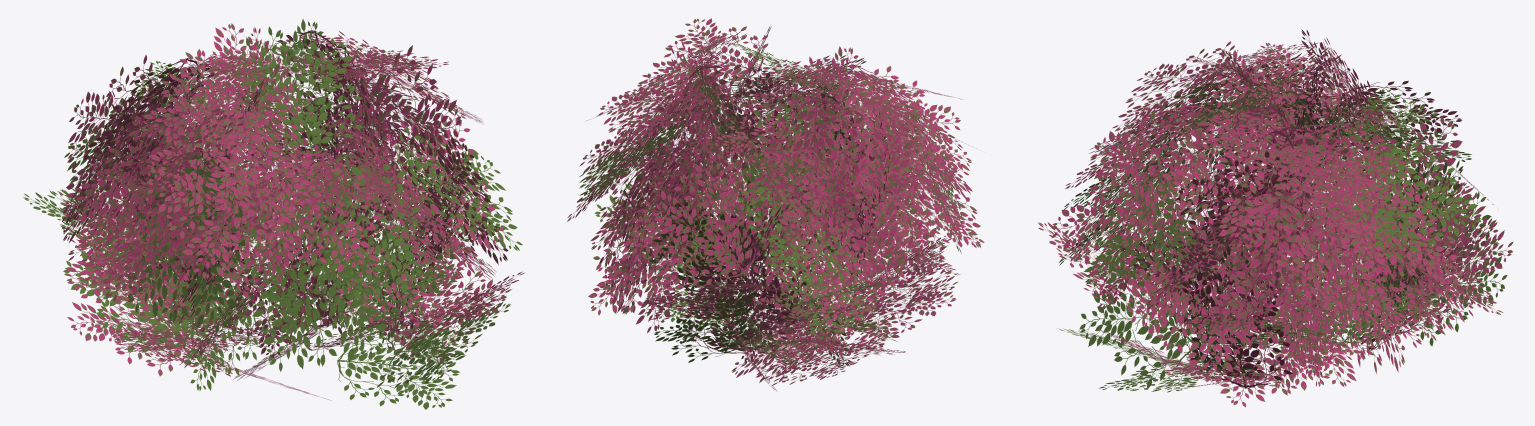
File: bougainvillea.glb
The picture shows the model from 3 angles, left to right: view 1: azimuth 30°, elevation 25°; view 2: azimuth 150°, elevation 25°; view 3: azimuth 270°, elevation 25°; orthographic projection. The views are drawn at different scales.
Visible parts, largest first — view 1: leaves_w; view 2: leaves_w; view 3: leaves_w.
Boxes of the visible parts, left/top/right/bottom form: leaves_w: left=23, top=19, right=525, bottom=409; leaves_w: left=567, top=18, right=984, bottom=391; leaves_w: left=1038, top=29, right=1513, bottom=407.
Bounding box in the file's own units: 2.05 × 1.7 × 2.25.
Materials: 2 (2 with a texture image).
